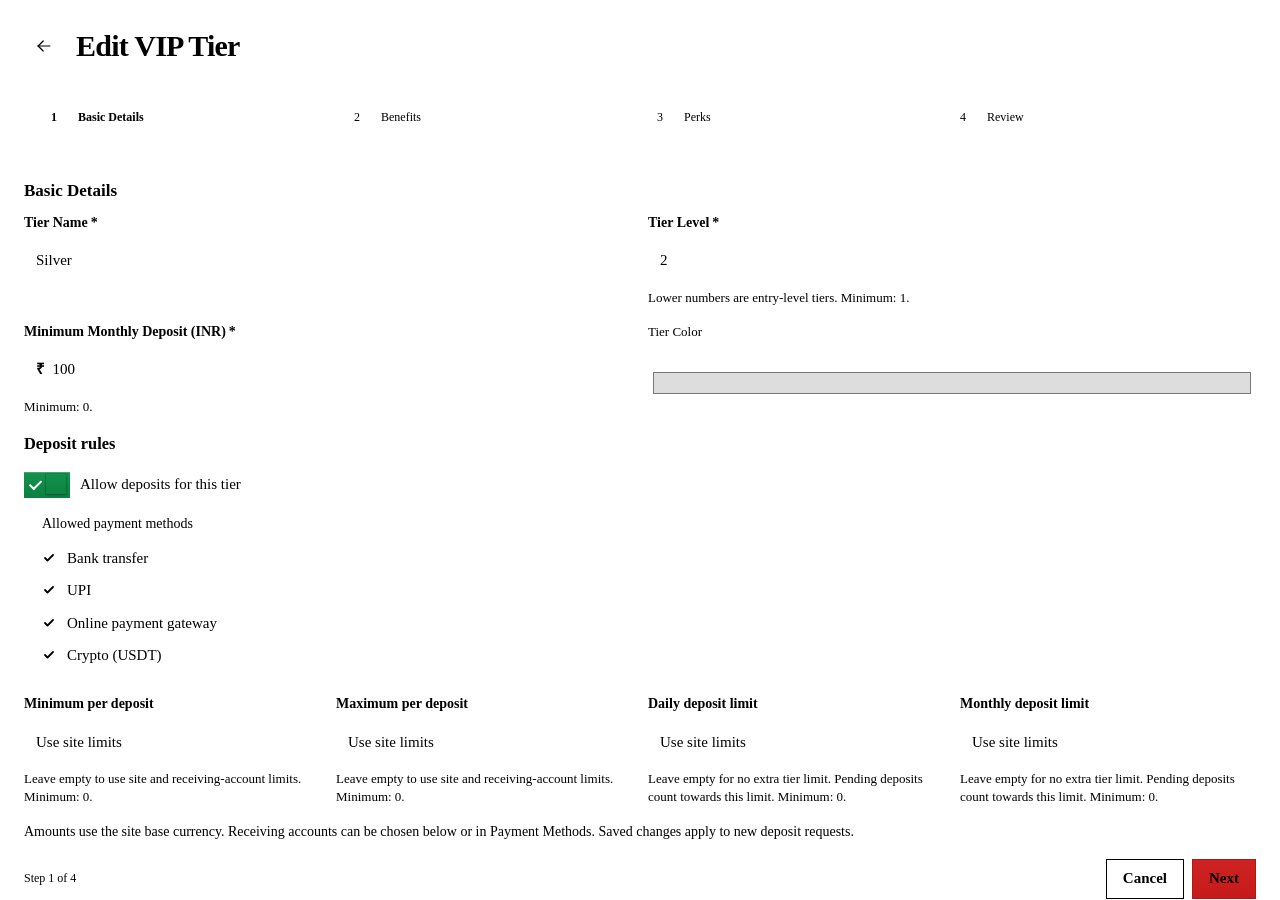
VIP create/edit wizard › a tier allows crypto deposits by default and can refuse them
Later steps or results of the test are not shown.
What coordinates should you click on to do the following:
click the checkbox labelled "Crypto (USDT)"
I would click on:
 (49, 655)
Its box is [40,646,58,664].
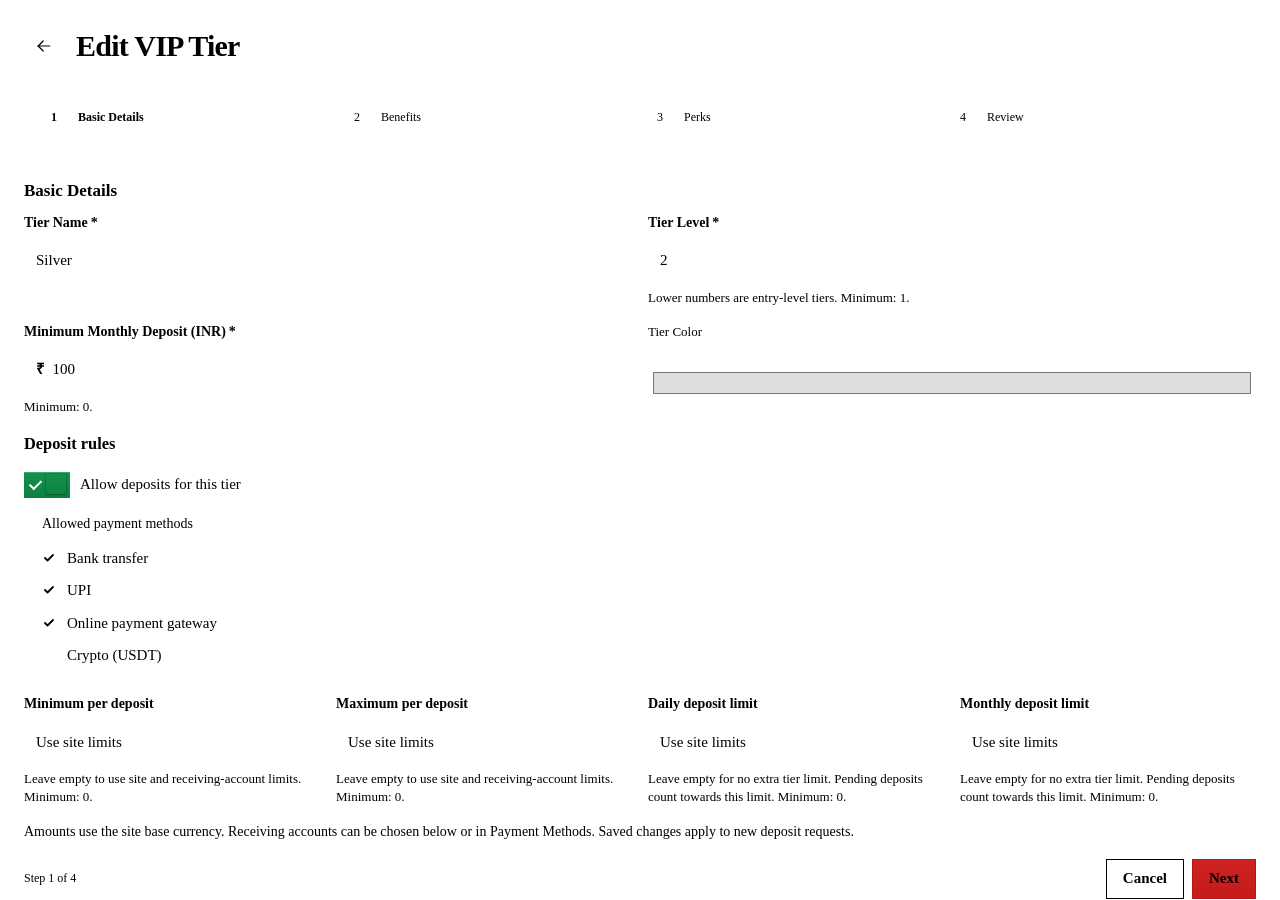
What coordinates should you click on to do the following:
click the button "Next"
I would click on:
 (1224, 879)
Its box is [1192,859,1256,899].
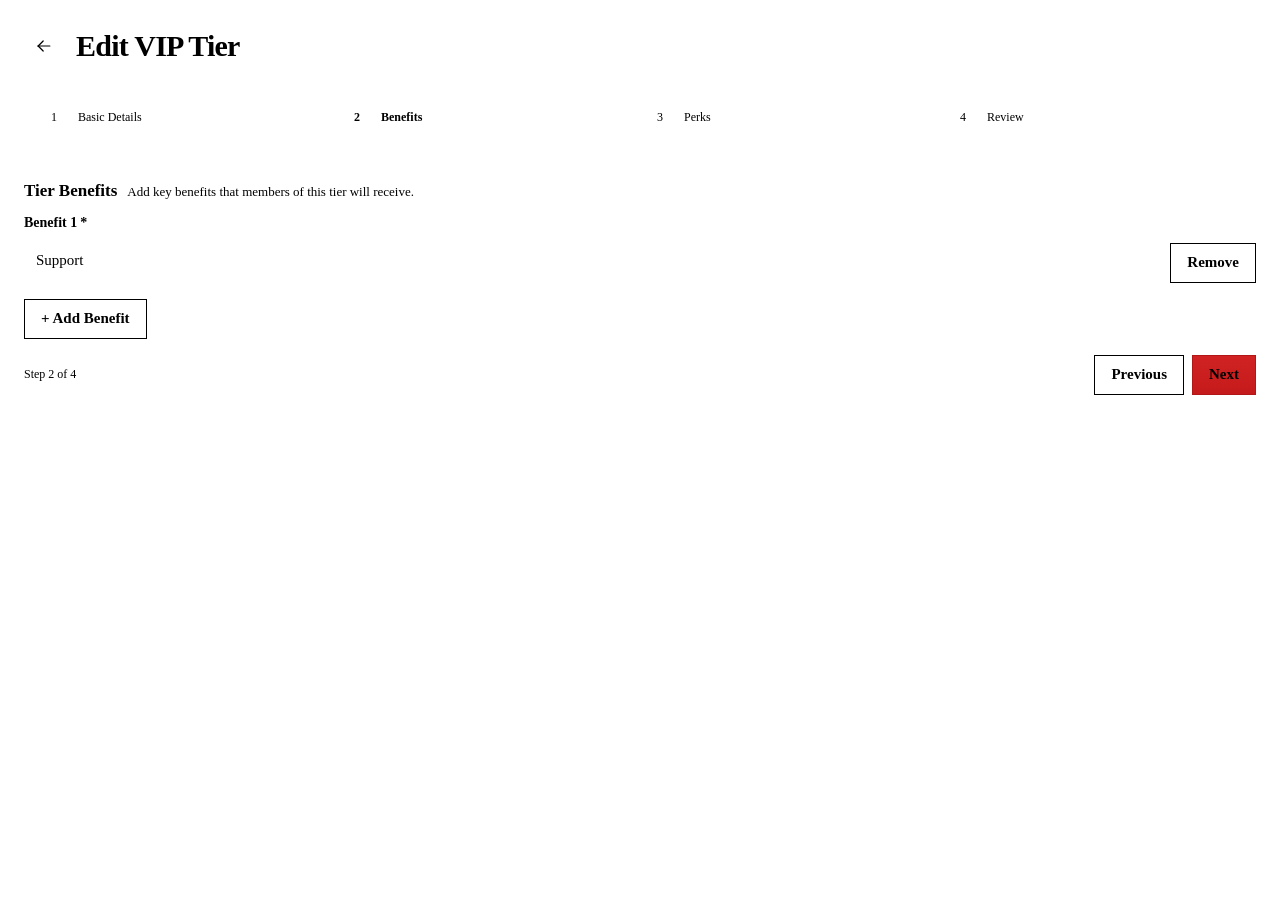
Expected: the heading "Tier Benefits" is shown, [24,181,117,201]
What coordinates should you click on to do the following:
click the button "Next"
I would click on:
 (1224, 375)
Its box is [1192,355,1256,395].
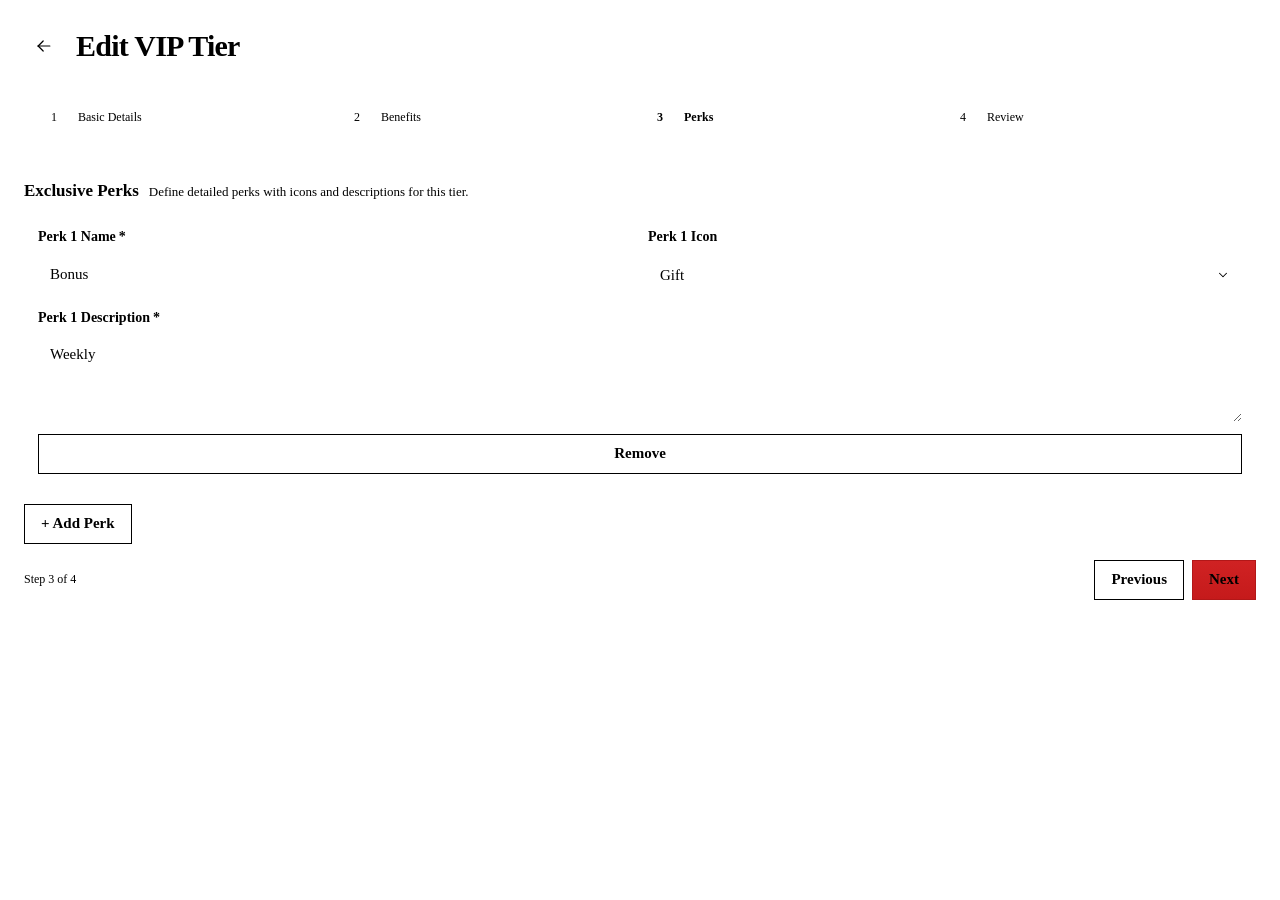
Expected: the heading "Exclusive Perks" is shown, [24,181,139,201]
What coordinates should you click on to do the following:
click the button "Next"
I would click on:
 (1224, 580)
Its box is [1192,560,1256,600].
(page scrolled)
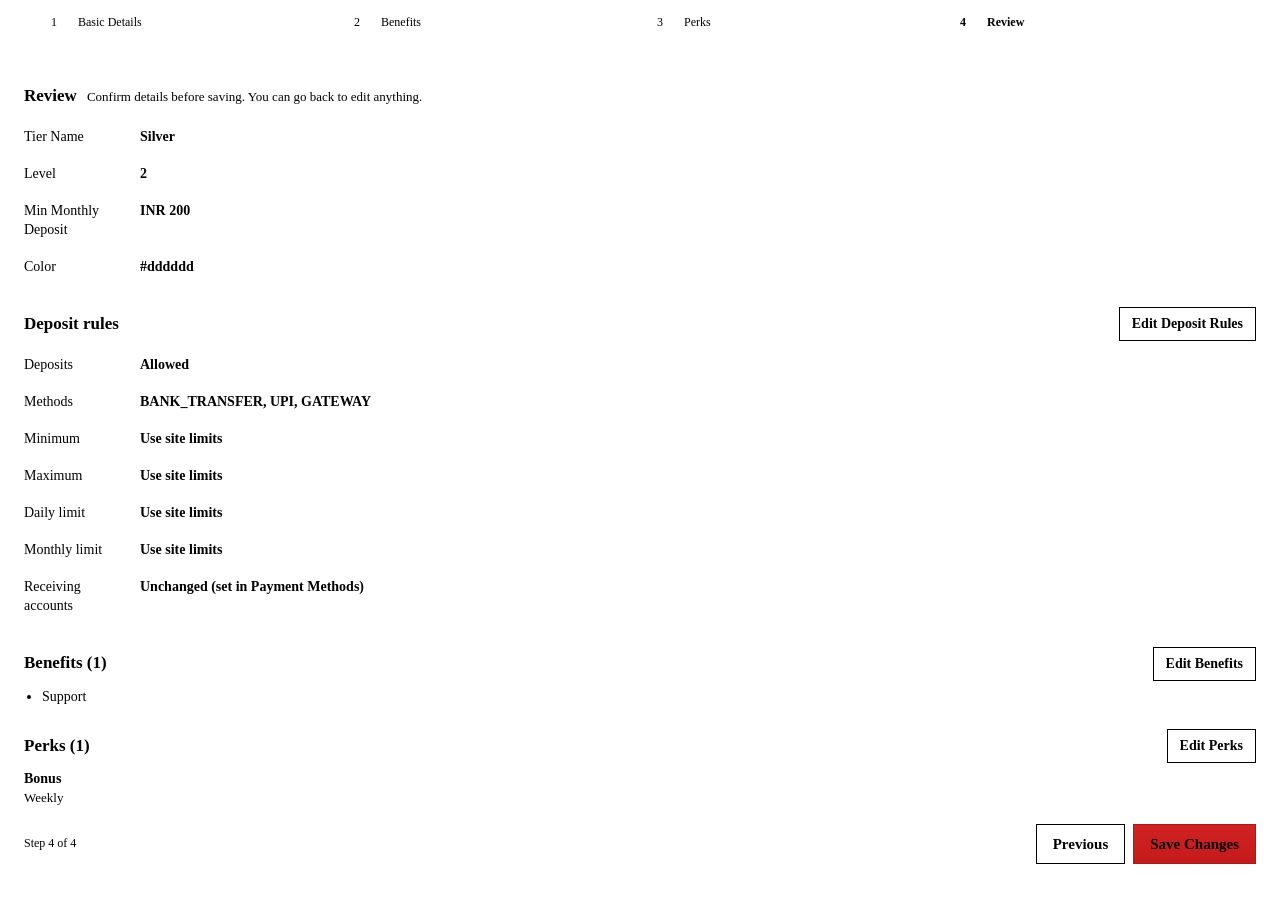
Expected: the heading "Review" is shown, [24,86,77,106]
Expected: the text "BANK_TRANSFER, UPI, GATEWAY" is shown, [140,394,371,409]
